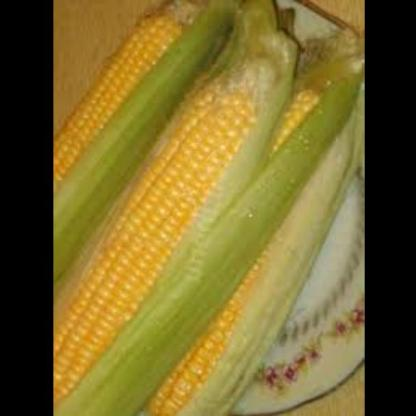corn: (52, 30, 296, 416), (152, 78, 360, 416), (51, 0, 223, 287)
